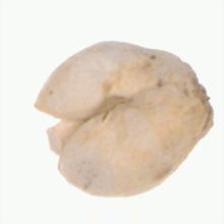L3: (32, 99, 76, 172)
L4: (34, 41, 214, 198)
